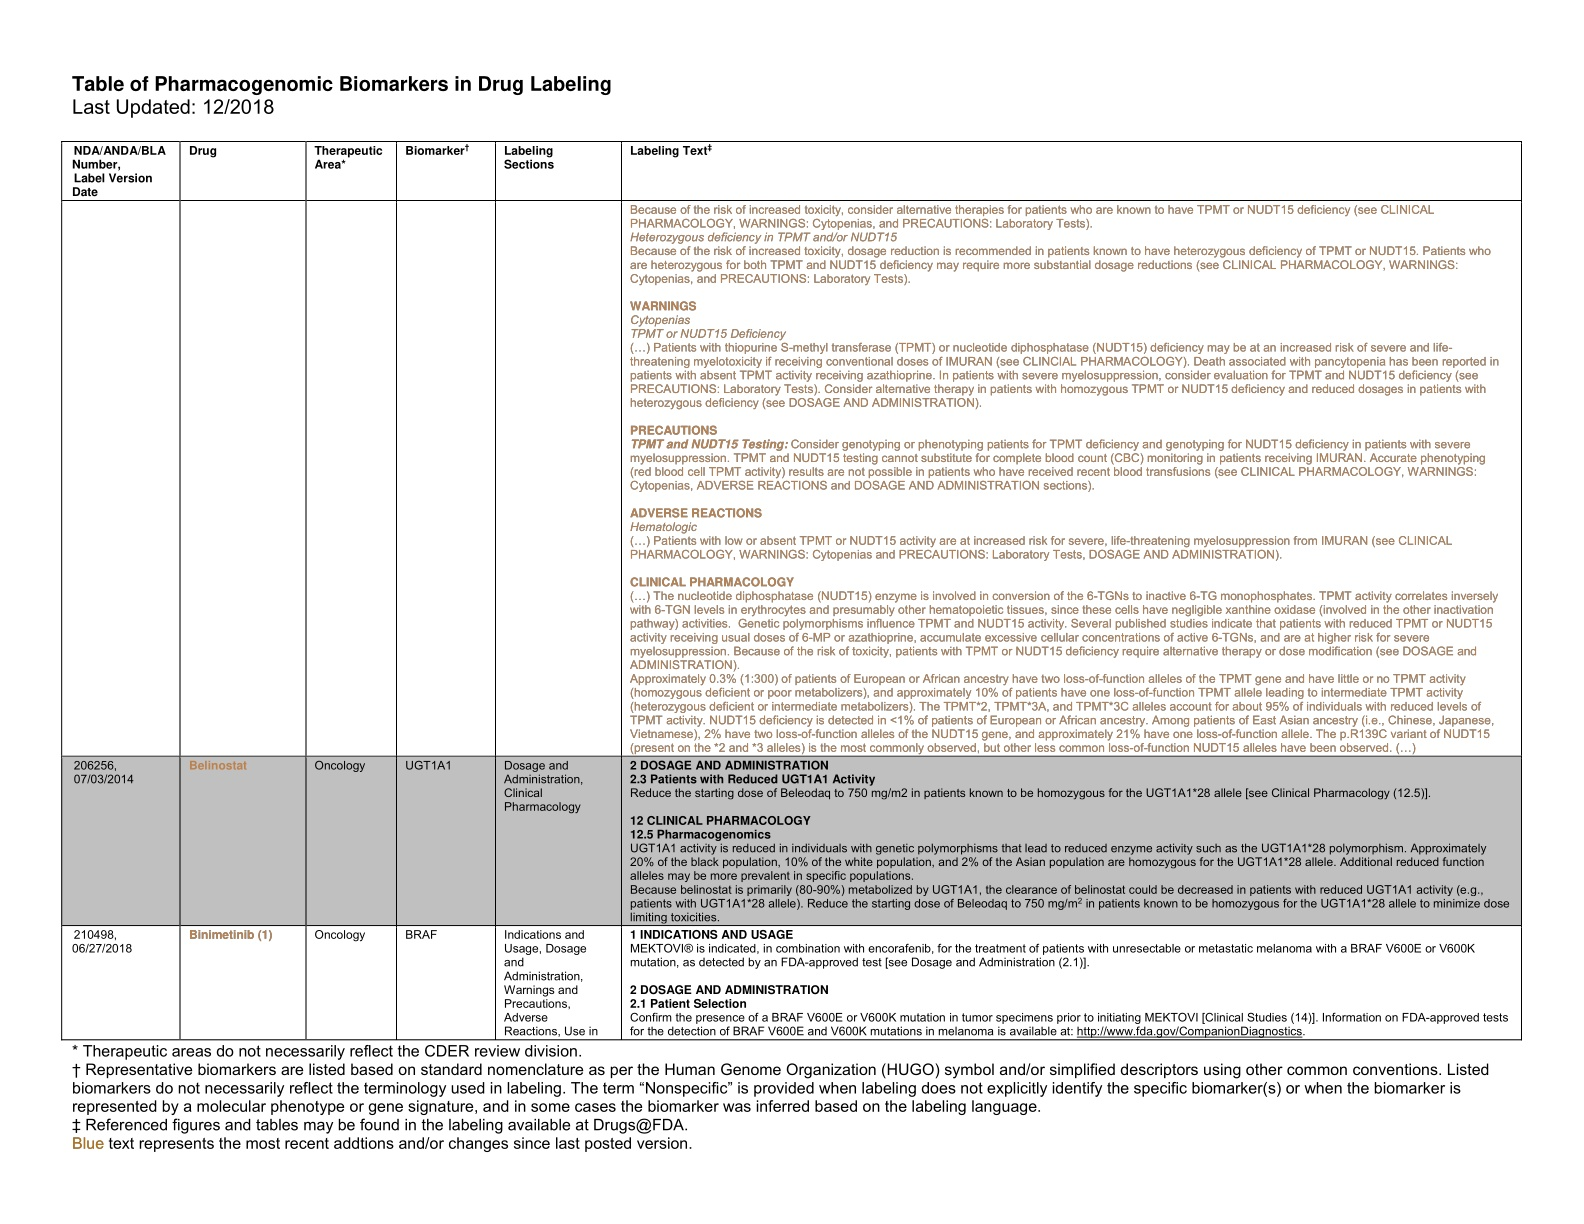full_lined: (60, 141, 1524, 1041)
